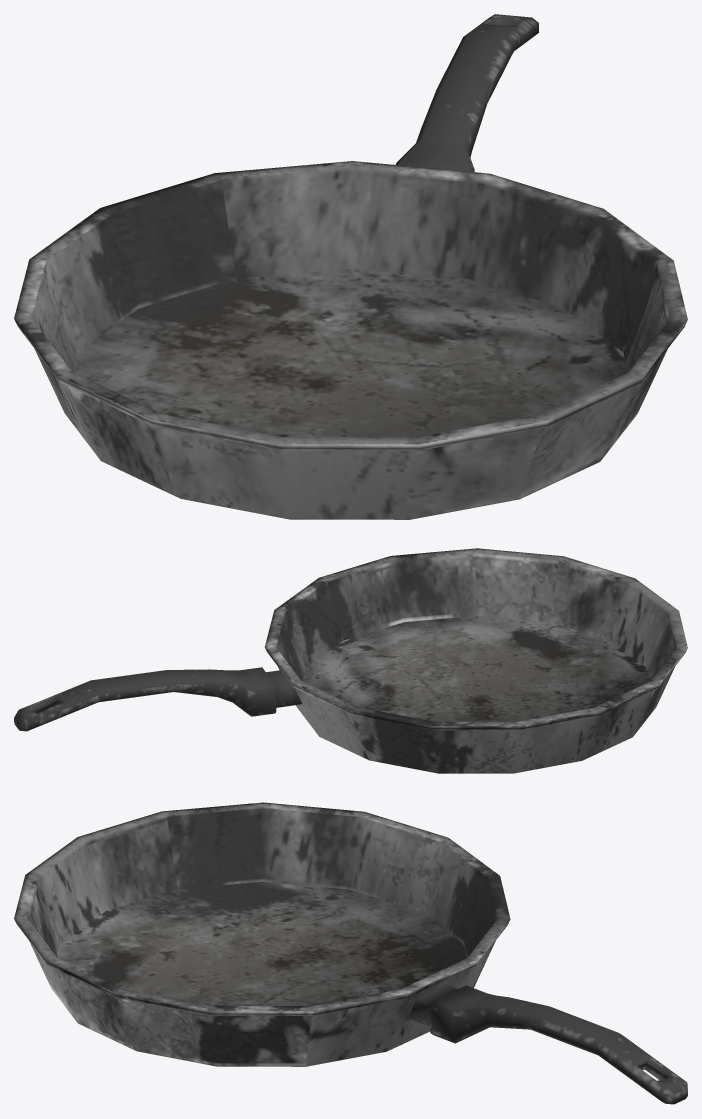
The model's file is SM_Pan_Kitchen.glb.
3 renders of one model, top to bottom at view 1: azimuth 30°, elevation 25°; view 2: azimuth 150°, elevation 25°; view 3: azimuth 270°, elevation 25°, orthographic. The views are drawn at different scales.
Visible parts, largest first — view 1: SM_FryingPan_Kitchen; view 2: SM_FryingPan_Kitchen; view 3: SM_FryingPan_Kitchen.
Part boxes in pixels (bbox=[...]): SM_FryingPan_Kitchen: bbox=[14, 14, 687, 519]; SM_FryingPan_Kitchen: bbox=[14, 548, 687, 773]; SM_FryingPan_Kitchen: bbox=[14, 802, 687, 1104].
Size of the model in its own units: 0.2856 by 0.0373 by 0.3008.
Materials: 1 (1 with a texture image).
